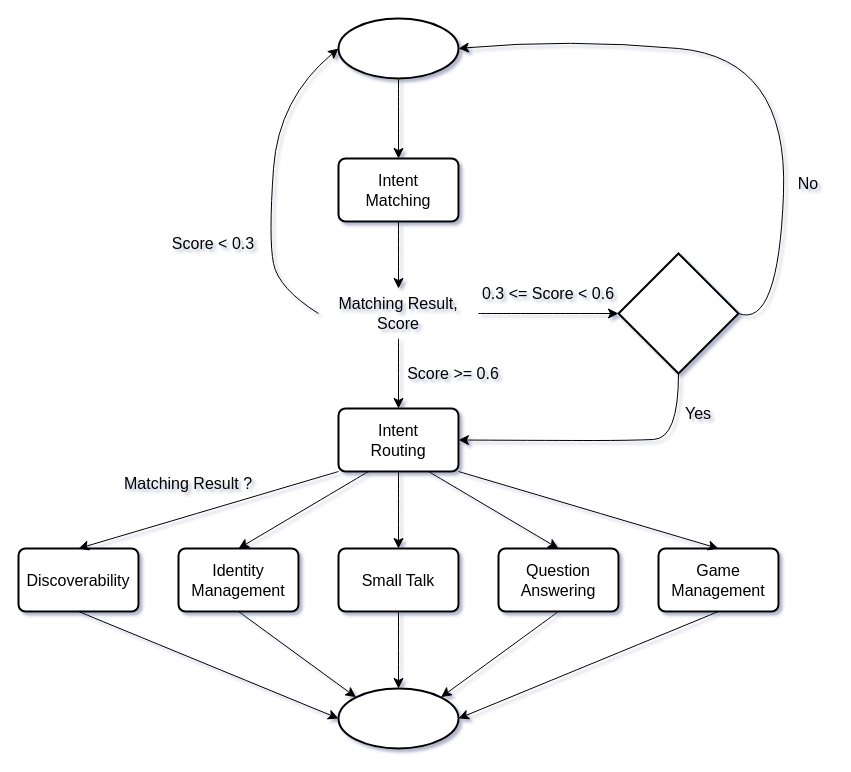
This 851x772 diagram has some shape labels left out. Here are the shapes that lost their labels. From the top down, the centre of each, then its label:
the point at 398,48: User Input
the point at 678,313: Confirmation
the point at 398,718: Response
